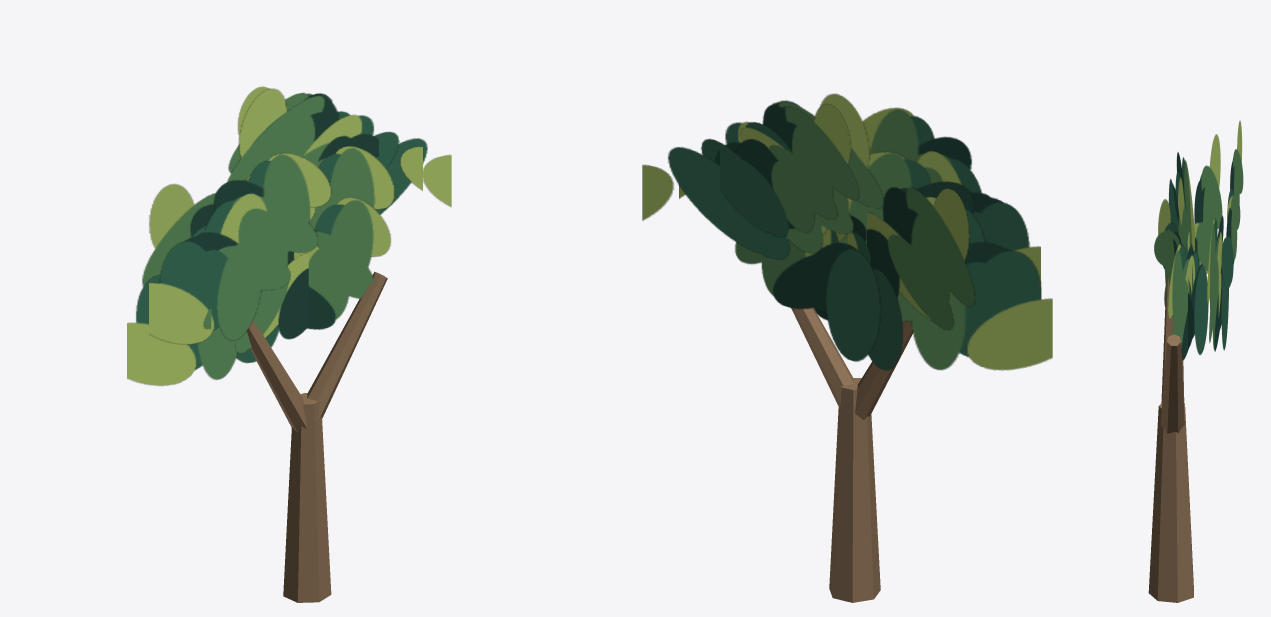
File: TREE_NATIVE_ROUNDED_001_V4_LOD_GAMEPLAY.glb
The picture shows the model from 3 angles, left to right: view 1: azimuth 30°, elevation 25°; view 2: azimuth 150°, elevation 25°; view 3: azimuth 270°, elevation 25°; orthographic projection. The views are drawn at different scales.
Parts seen in each view (by area): view 1: GG_NATIVE_V4_CLUSTER_07, GG_NATIVE_V4_CLUSTER_02, GG_NATIVE_V4_CLUSTER_05, GG_NATIVE_V4_LOCKED_CARCASS_00, GG_NATIVE_V4_CLUSTER_03, GG_NATIVE_V4_CLUSTER_01, GG_NATIVE_V4_CLUSTER_04, GG_NATIVE_V4_CLUSTER_00, GG_NATIVE_V4_LOCKED_CARCASS_02, GG_NATIVE_V4_CLUSTER_06, GG_NATIVE_V4_LOCKED_CARCASS_01; view 2: GG_NATIVE_V4_CLUSTER_03, GG_NATIVE_V4_CLUSTER_06, GG_NATIVE_V4_CLUSTER_02, GG_NATIVE_V4_CLUSTER_00, GG_NATIVE_V4_CLUSTER_01, GG_NATIVE_V4_LOCKED_CARCASS_00, GG_NATIVE_V4_CLUSTER_07, GG_NATIVE_V4_CLUSTER_05, GG_NATIVE_V4_LOCKED_CARCASS_02, GG_NATIVE_V4_LOCKED_CARCASS_01; view 3: GG_NATIVE_V4_LOCKED_CARCASS_00, GG_NATIVE_V4_CLUSTER_05, GG_NATIVE_V4_CLUSTER_00, GG_NATIVE_V4_CLUSTER_01, GG_NATIVE_V4_CLUSTER_06, GG_NATIVE_V4_LOCKED_CARCASS_02, GG_NATIVE_V4_CLUSTER_03, GG_NATIVE_V4_CLUSTER_04, GG_NATIVE_V4_LOCKED_CARCASS_01.
Part boxes in pixels (x1,y1,x2,y2): GG_NATIVE_V4_CLUSTER_07: [149, 153, 331, 344]; GG_NATIVE_V4_CLUSTER_02: [226, 88, 451, 214]; GG_NATIVE_V4_CLUSTER_05: [236, 197, 390, 363]; GG_NATIVE_V4_LOCKED_CARCASS_00: [283, 393, 331, 602]; GG_NATIVE_V4_CLUSTER_03: [127, 174, 315, 385]; GG_NATIVE_V4_CLUSTER_01: [308, 146, 395, 256]; GG_NATIVE_V4_CLUSTER_04: [203, 251, 308, 353]; GG_NATIVE_V4_CLUSTER_00: [142, 184, 294, 286]; GG_NATIVE_V4_LOCKED_CARCASS_02: [307, 271, 387, 420]; GG_NATIVE_V4_CLUSTER_06: [228, 86, 422, 190]; GG_NATIVE_V4_LOCKED_CARCASS_01: [247, 320, 307, 432]; GG_NATIVE_V4_CLUSTER_03: [840, 151, 1052, 370]; GG_NATIVE_V4_CLUSTER_06: [679, 103, 859, 237]; GG_NATIVE_V4_CLUSTER_02: [642, 93, 884, 260]; GG_NATIVE_V4_CLUSTER_00: [867, 187, 975, 330]; GG_NATIVE_V4_CLUSTER_01: [735, 228, 880, 361]; GG_NATIVE_V4_LOCKED_CARCASS_00: [829, 378, 880, 602]; GG_NATIVE_V4_CLUSTER_07: [862, 107, 1040, 299]; GG_NATIVE_V4_CLUSTER_05: [814, 215, 902, 370]; GG_NATIVE_V4_LOCKED_CARCASS_02: [791, 307, 853, 407]; GG_NATIVE_V4_LOCKED_CARCASS_01: [855, 320, 913, 419]; GG_NATIVE_V4_LOCKED_CARCASS_00: [1148, 403, 1193, 602]; GG_NATIVE_V4_CLUSTER_05: [1168, 238, 1208, 360]; GG_NATIVE_V4_CLUSTER_00: [1185, 134, 1222, 274]; GG_NATIVE_V4_CLUSTER_01: [1207, 215, 1228, 351]; GG_NATIVE_V4_CLUSTER_06: [1218, 121, 1243, 318]; GG_NATIVE_V4_LOCKED_CARCASS_02: [1160, 334, 1184, 433]; GG_NATIVE_V4_CLUSTER_03: [1168, 152, 1194, 291]; GG_NATIVE_V4_CLUSTER_04: [1154, 199, 1193, 348]; GG_NATIVE_V4_LOCKED_CARCASS_01: [1161, 275, 1184, 403].
Bounding box in the file's own units: 7.02 × 6.93 × 1.62.
Materials: 2 (1 with a texture image).
